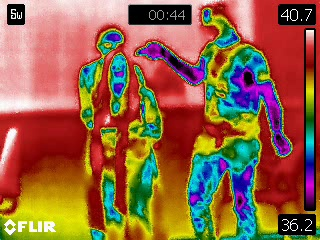human: (135, 2, 292, 240), (78, 26, 145, 240), (101, 50, 160, 240)
